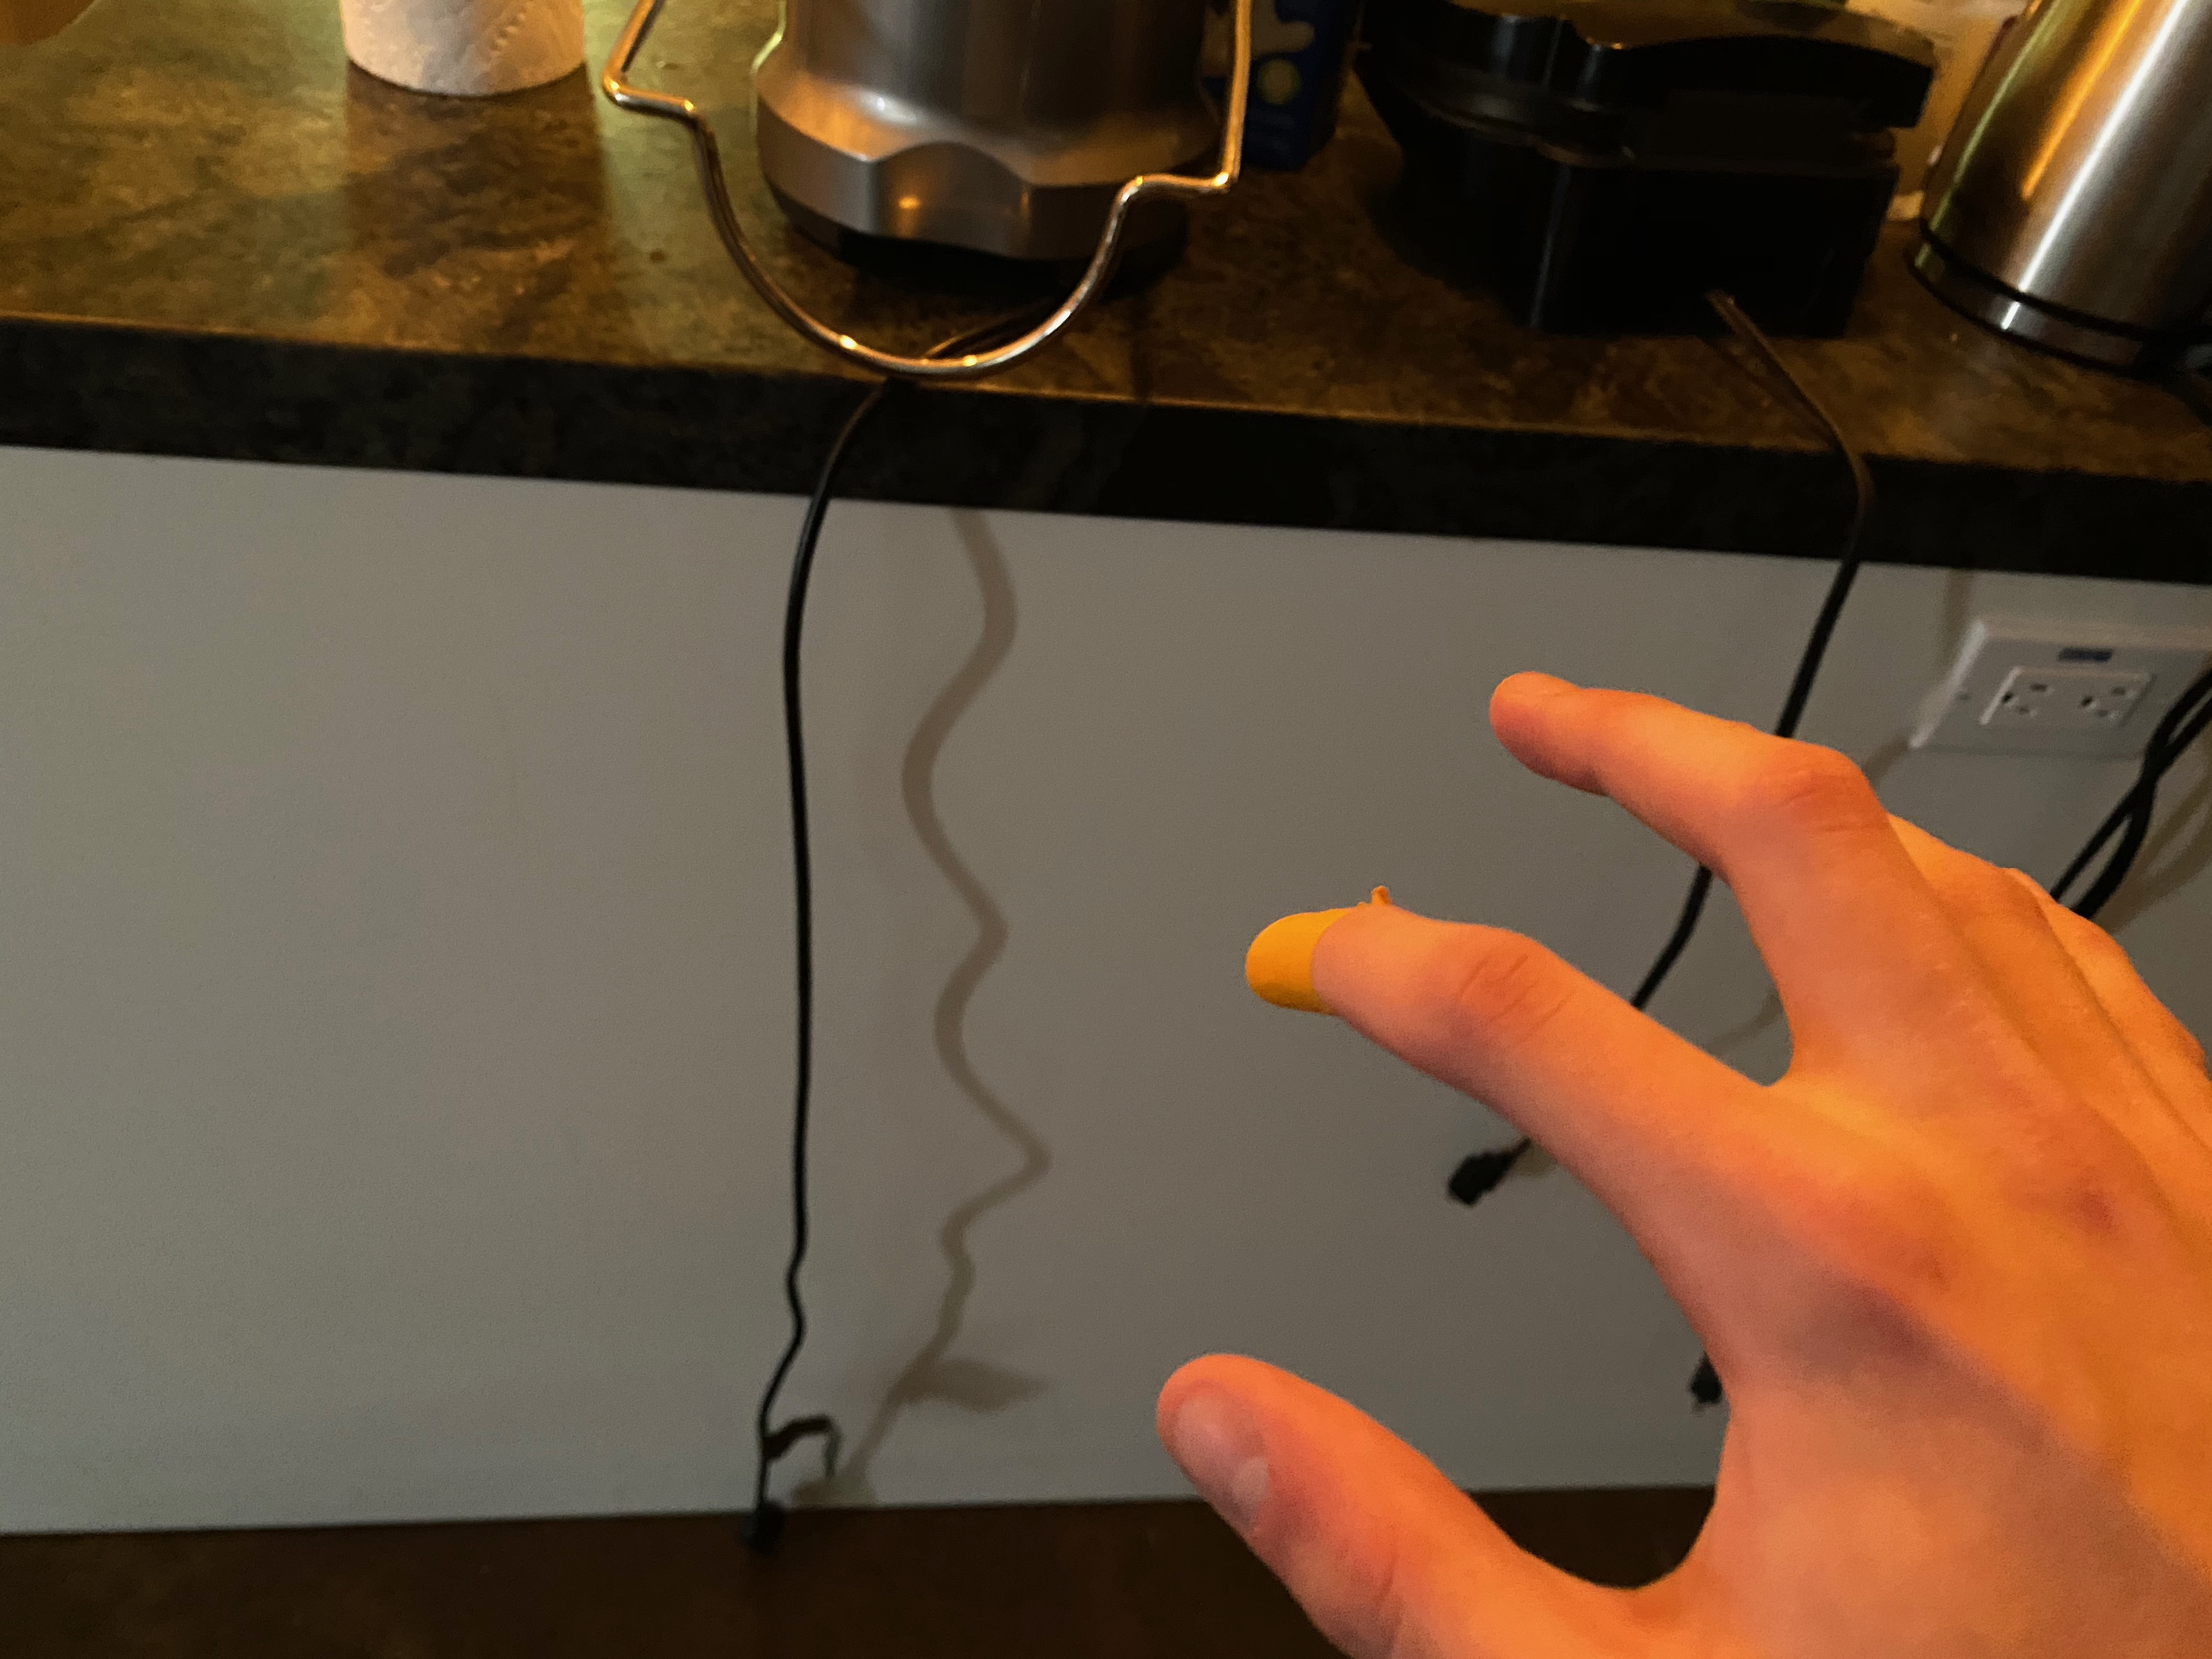fingertip: (1224, 896, 1357, 1033)
